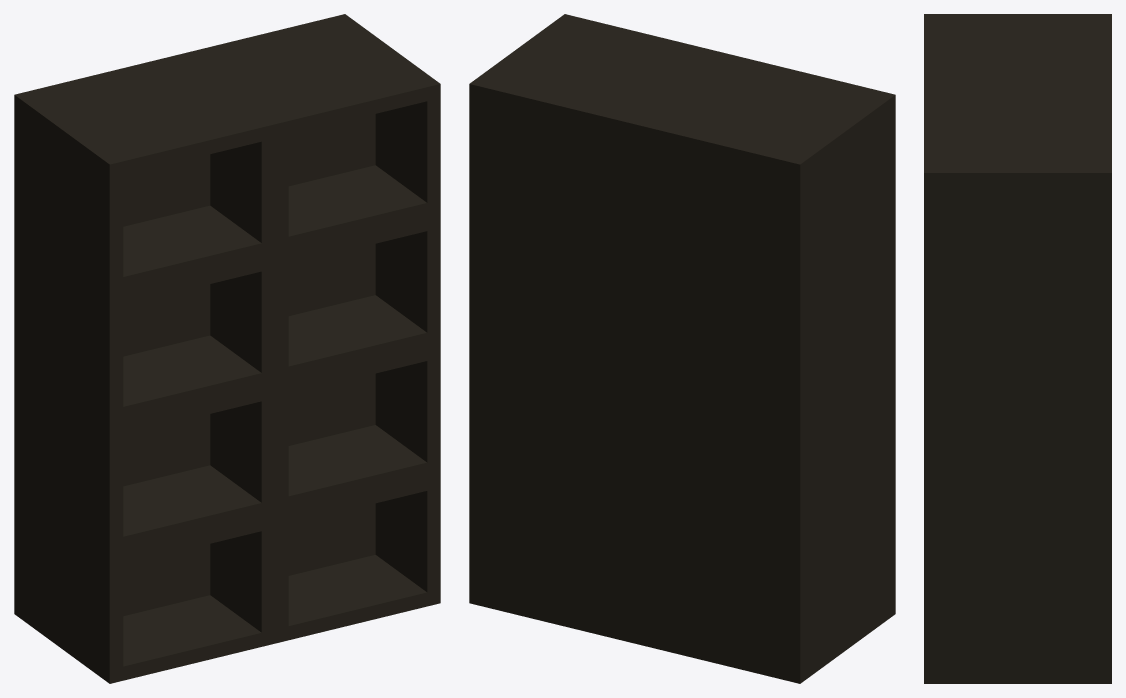
The model's file is Shelf_3.fbx.
The picture shows the model from 3 angles, left to right: view 1: azimuth 30°, elevation 25°; view 2: azimuth 150°, elevation 25°; view 3: azimuth 270°, elevation 25°; orthographic projection.
Visible parts, largest first — view 1: Shelf_3; view 2: Shelf_3; view 3: Shelf_3.
Boxes of the visible parts, x1=… form: Shelf_3: x1=14, y1=14, x2=440, y2=683; Shelf_3: x1=469, y1=14, x2=895, y2=683; Shelf_3: x1=924, y1=14, x2=1111, y2=683.
Size of the model in its own units: 100 by 150 by 50.
